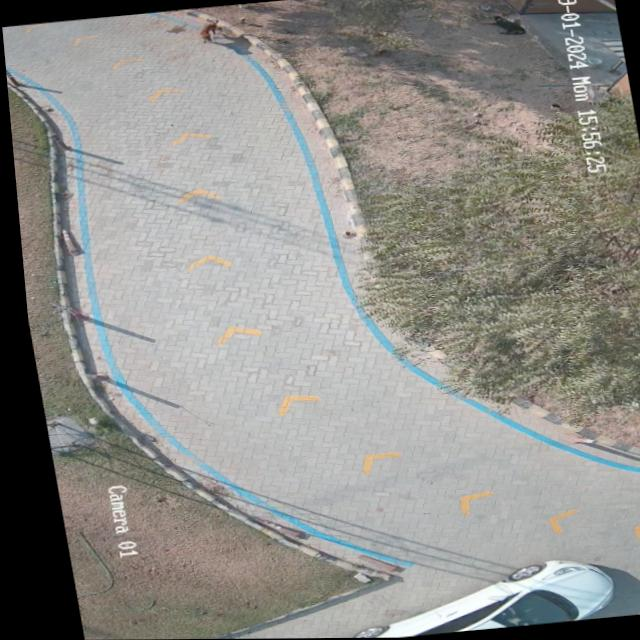car: (341, 561, 601, 638)
